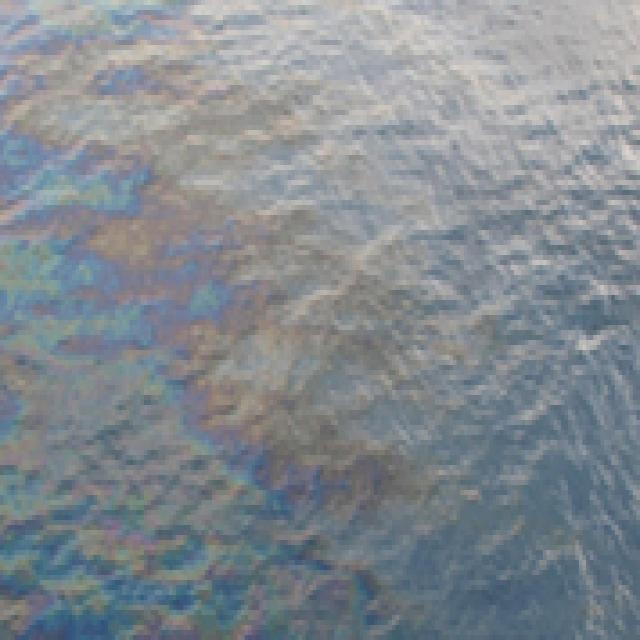-: (0, 205, 521, 640), (0, 0, 252, 205), (0, 240, 68, 590)
